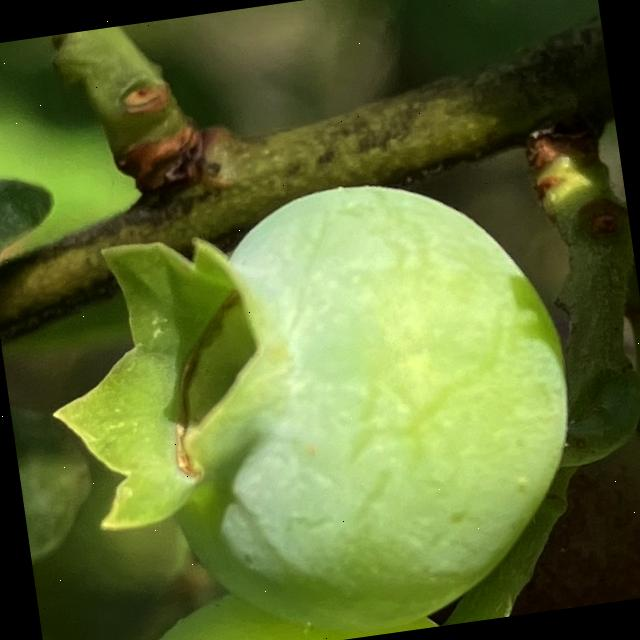Blueberries: (22, 142, 603, 640)
